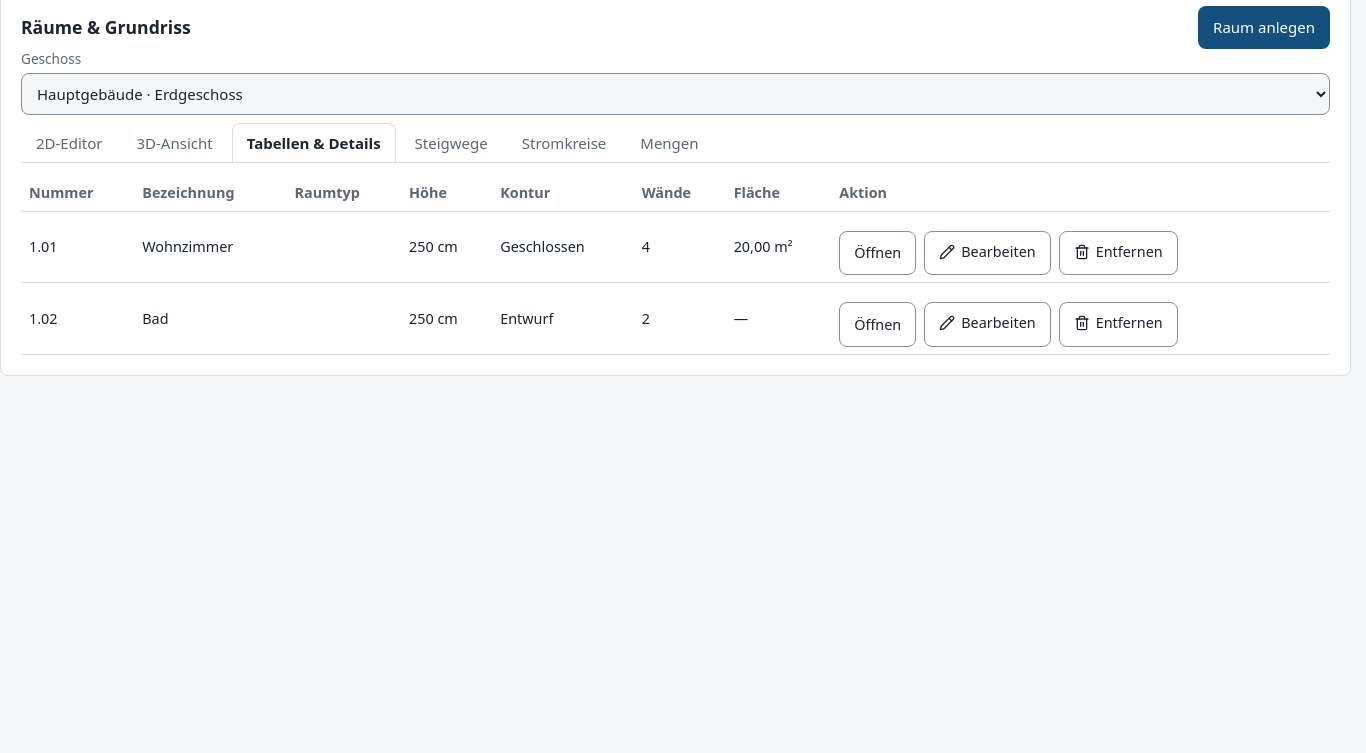
Test case: Raum öffnen › zeigt die Bruestungshoehe nur beim Fenster
Expected: the text "Wohnzimmer" is shown, left=134, top=212, right=287, bottom=283
Click the button with aria-label "Raum Wohnzimmer öffnen" at (878,253), box left=839, top=231, right=916, bottom=275
(page scrolled)
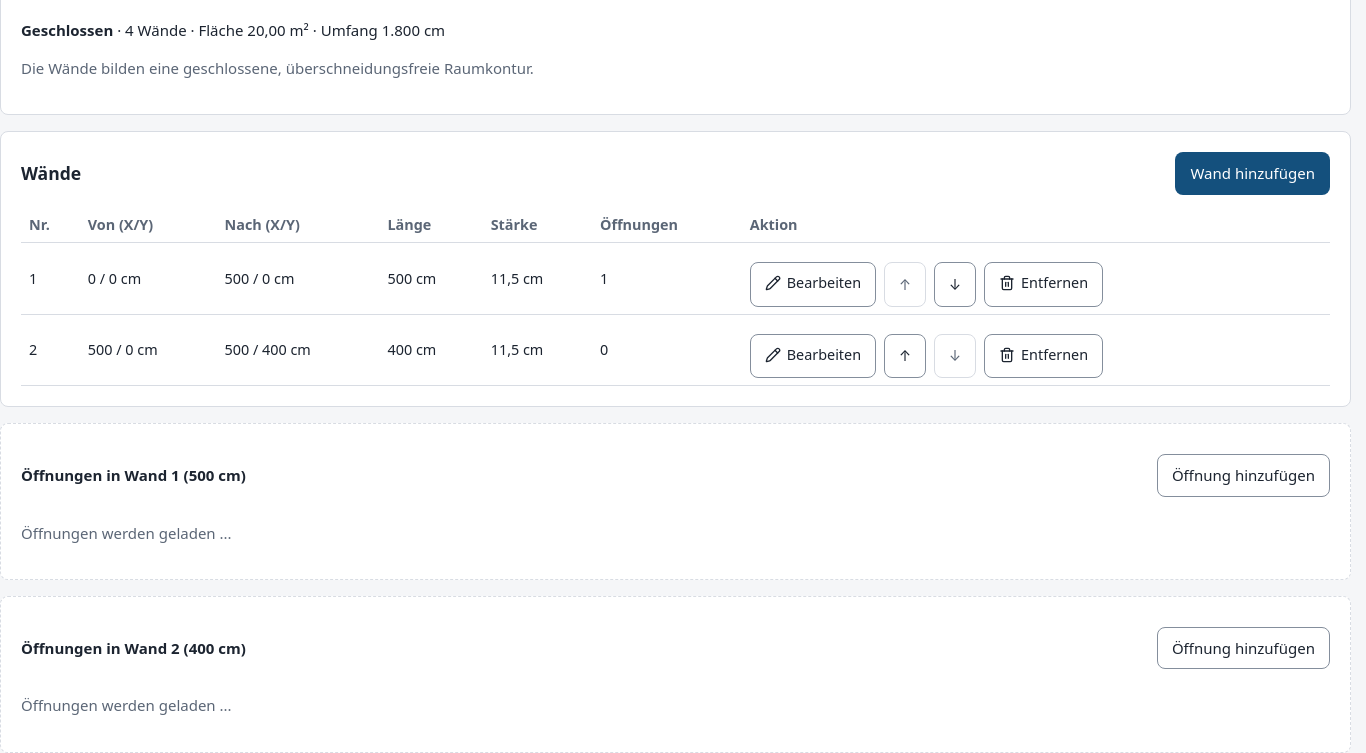
Now the heading "Öffnungen in Wand 1 (500 cm)" is shown, box left=21, top=464, right=246, bottom=487
Click the 1st button "Öffnung hinzufügen" at (1243,475), box left=1157, top=454, right=1330, bottom=497
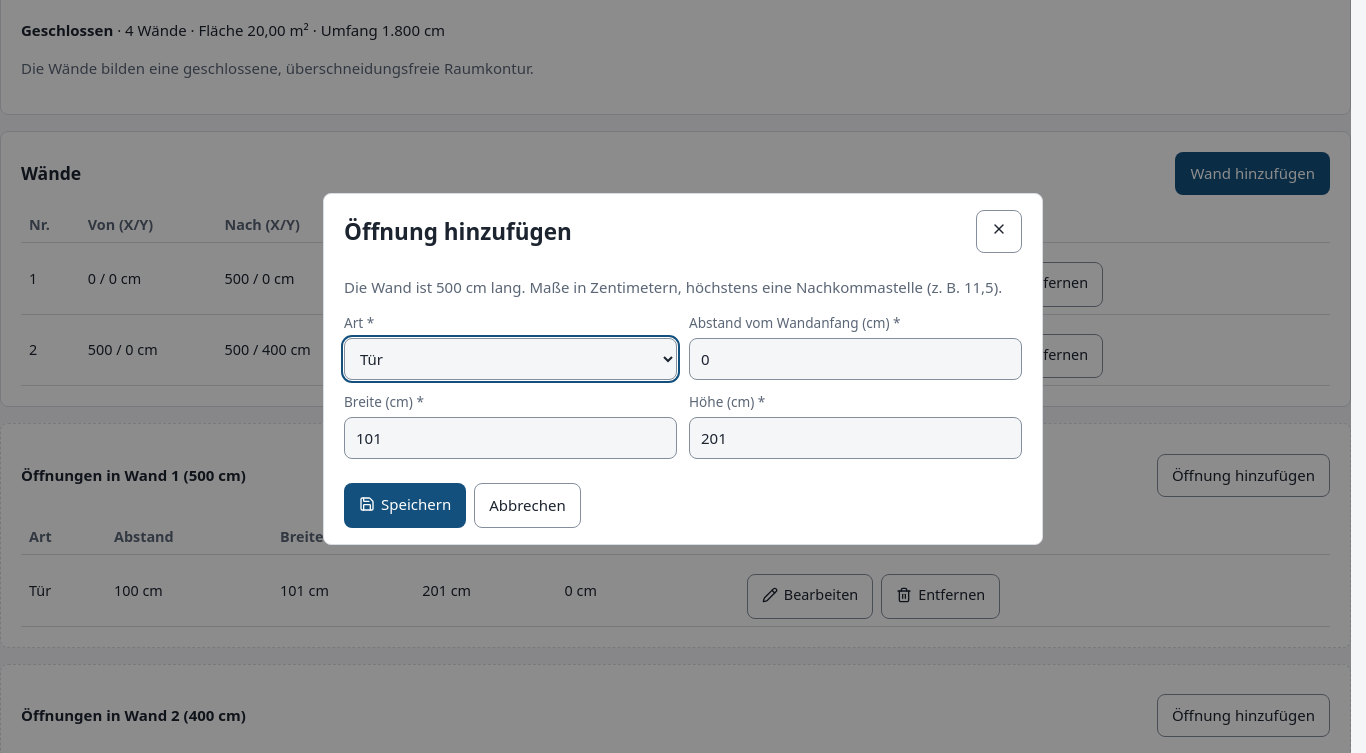
Expected: the field labelled "Brüstungshöhe" is not shown
Select "Fenster" in the dropdown labelled "Art *" at (510,359), box left=344, top=338, right=677, bottom=380
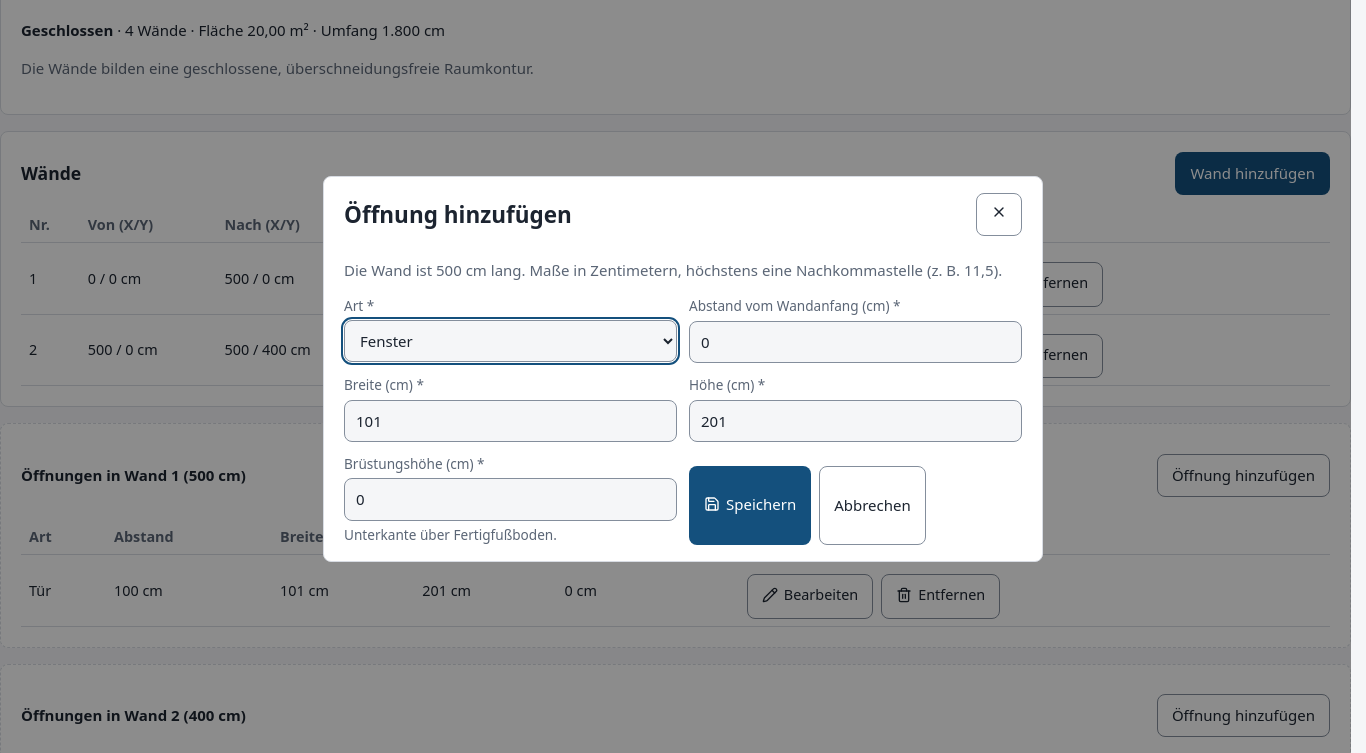
Now the field labelled "Brüstungshöhe (cm) *" is shown, box left=344, top=478, right=677, bottom=521
